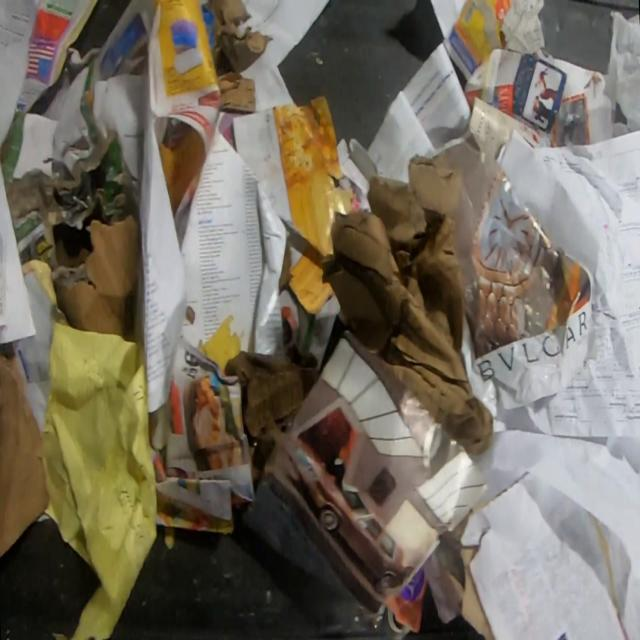cardboard: (322, 154, 494, 458), (0, 46, 139, 271), (0, 341, 50, 562), (52, 216, 138, 343), (222, 350, 320, 445), (439, 544, 495, 640), (206, 0, 274, 68), (216, 69, 255, 112)
soft_plastic: (604, 9, 640, 133)
